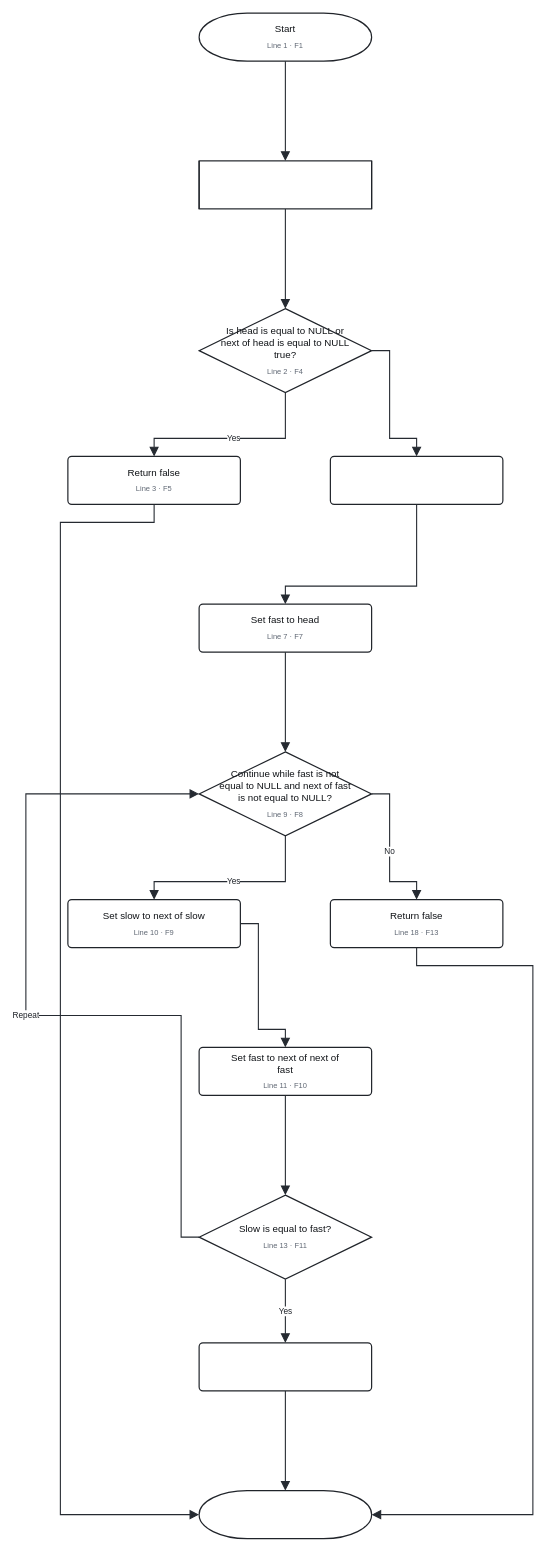
The diagram is 555 pixels wide and 1553 high, and some of its shapes have lost their labels. Each missing label, with the box of its shape:
End Line 1 · F2: (198, 1490, 372, 1539)
Return true Line 14 · F12: (198, 1342, 372, 1391)
Run function HasCycle with head Line 1 · F3: (198, 160, 372, 209)
Set slow to head Line 6 · F6: (329, 455, 503, 505)
